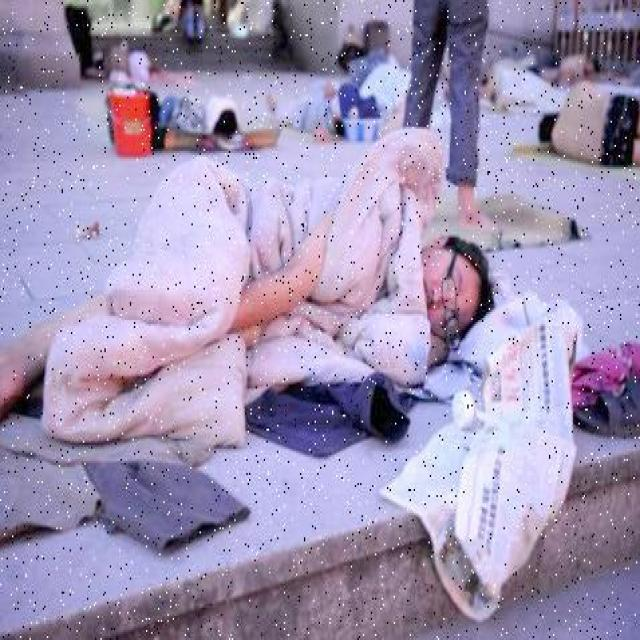fall: (0, 170, 486, 434)
